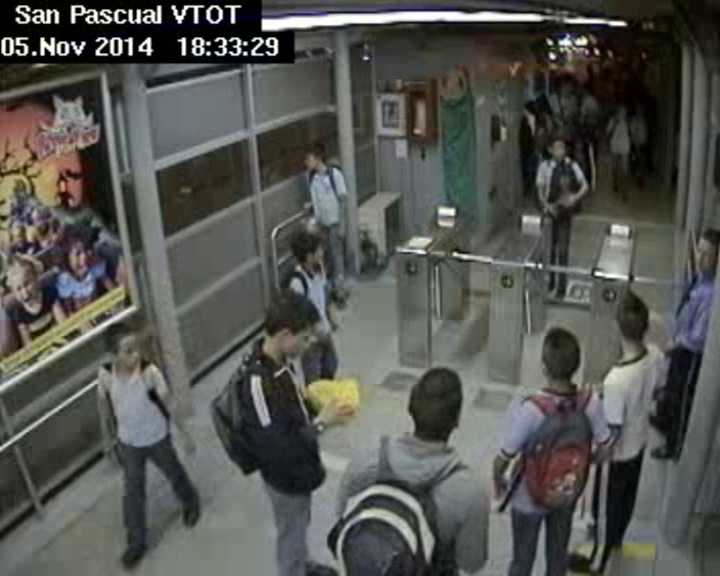person: (257, 277, 321, 365), (405, 356, 467, 443), (524, 324, 586, 389), (95, 320, 153, 365), (685, 224, 720, 280), (616, 293, 649, 351), (291, 233, 329, 272), (294, 143, 331, 170), (537, 133, 570, 158), (581, 81, 597, 98), (556, 80, 573, 96), (615, 102, 627, 117), (634, 100, 645, 114), (525, 98, 535, 112)
